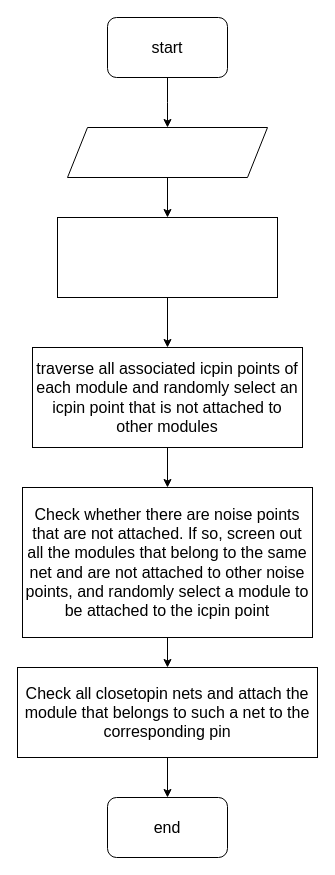
This 335x875 diagram has some shape labels left out. Each missing label, with the box of its shape:
All icpin points in the Bottom layer: (66, 126, 268, 178)
the coordinates of all icpin points are clustered by DBSCAN algorithm: (56, 216, 278, 298)
